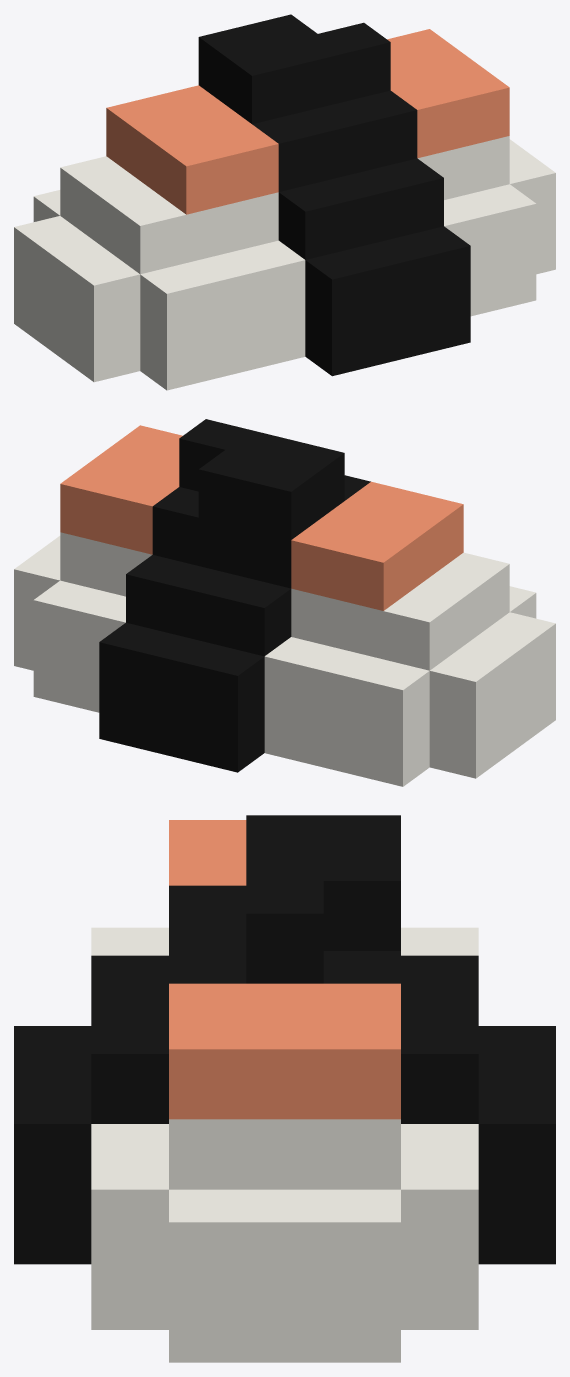
File: comida-1.obj
3 views of the same model, one above another, from view 1: azimuth 30°, elevation 25°; view 2: azimuth 150°, elevation 25°; view 3: azimuth 270°, elevation 25° (orthographic). The views are drawn at different scales.
Size of the model in its own units: 4 by 2 by 2.8.
Materials: 1 (1 with a texture image).
